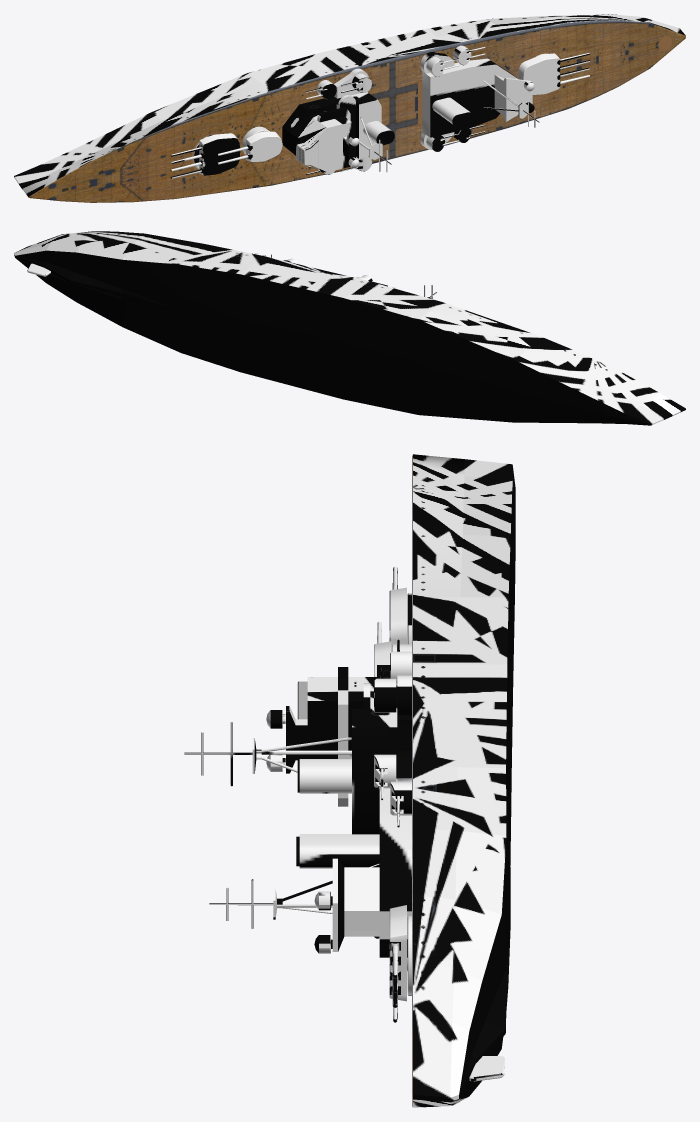
Rendered from King_George_V.obj.
3 renders of one model, top to bottom at view 1: azimuth 30°, elevation 25°; view 2: azimuth 150°, elevation 25°; view 3: azimuth 270°, elevation 25°, orthographic. The views are drawn at different scales.
Visible parts, largest first — view 1: _King_George_V_body, _King_George_V_detail; view 2: _King_George_V_body, _King_George_V_detail; view 3: _King_George_V_body, _King_George_V_detail.
Boxes of the visible parts, box(x1,y1,x2,y2) form: _King_George_V_body: box(14, 14, 685, 202); _King_George_V_detail: box(170, 45, 589, 178); _King_George_V_body: box(14, 231, 685, 425); _King_George_V_detail: box(27, 253, 437, 299); _King_George_V_body: box(412, 454, 515, 1107); _King_George_V_detail: box(184, 566, 504, 1081).
Size of the model in its own units: 2.67 by 0.391 by 0.5807.
Materials: 1 (1 with a texture image).
